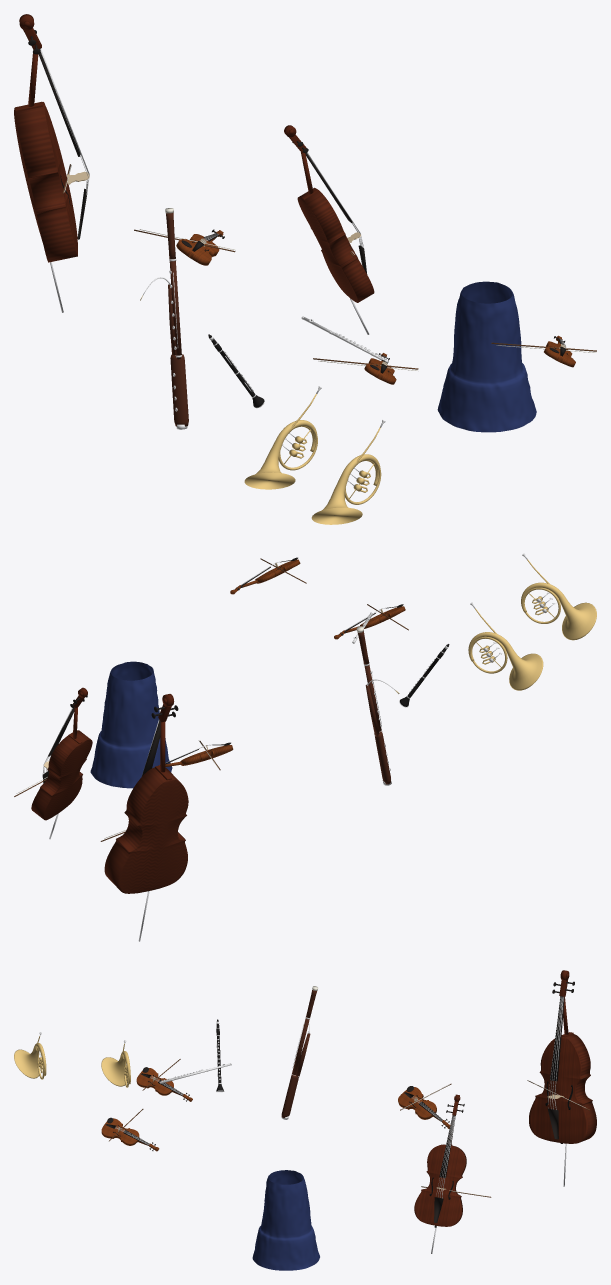
Rendered from CR3_instruments_v3.fbx.
3 views of the same model, one above another, from view 1: azimuth 30°, elevation 25°; view 2: azimuth 150°, elevation 25°; view 3: azimuth 270°, elevation 25° (orthographic). The views are drawn at different scales.
Parts seen in each view (by area): view 1: I_Singer, I_Contrabass, I_Cello, I_Bassoon, I_Horn1, I_Horn2, I_Viola, I_ViolinII, I_ViolinI; view 2: I_Contrabass, I_Singer, I_Cello, I_Horn2, I_Horn1, I_Bassoon, I_Viola, I_ViolinI, I_ViolinII; view 3: I_Contrabass, I_Singer, I_Cello, I_Bassoon, I_Viola, I_Horn2, I_Horn1, I_ViolinI, I_ViolinII.
Boxes of the visible parts, <box> form: I_Singer: <box>437,281,536,432</box>; I_Contrabass: <box>14,14,89,312</box>; I_Cello: <box>284,125,374,334</box>; I_Bassoon: <box>140,208,188,429</box>; I_Horn1: <box>244,386,321,489</box>; I_Horn2: <box>311,420,385,524</box>; I_Viola: <box>134,229,235,265</box>; I_ViolinII: <box>313,353,418,384</box>; I_ViolinI: <box>491,335,596,367</box>; I_Contrabass: <box>100,694,188,941</box>; I_Singer: <box>90,661,172,788</box>; I_Cello: <box>14,687,92,839</box>; I_Horn2: <box>521,553,596,640</box>; I_Horn1: <box>468,602,543,690</box>; I_Bassoon: <box>356,626,399,785</box>; I_Viola: <box>159,740,233,770</box>; I_ViolinI: <box>230,557,306,594</box>; I_ViolinII: <box>334,604,408,639</box>; I_Contrabass: <box>527,970,596,1186</box>; I_Singer: <box>252,1170,319,1270</box>; I_Cello: <box>414,1094,491,1253</box>; I_Bassoon: <box>281,986,318,1119</box>; I_Viola: <box>398,1083,451,1128</box>; I_Horn2: <box>14,1032,46,1079</box>; I_Horn1: <box>101,1040,130,1087</box>; I_ViolinI: <box>101,1109,159,1151</box>; I_ViolinII: <box>136,1059,192,1101</box>.
Size of the model in its own units: 2.9 by 2.08 by 5.37.
18 materials, 4 textured.
